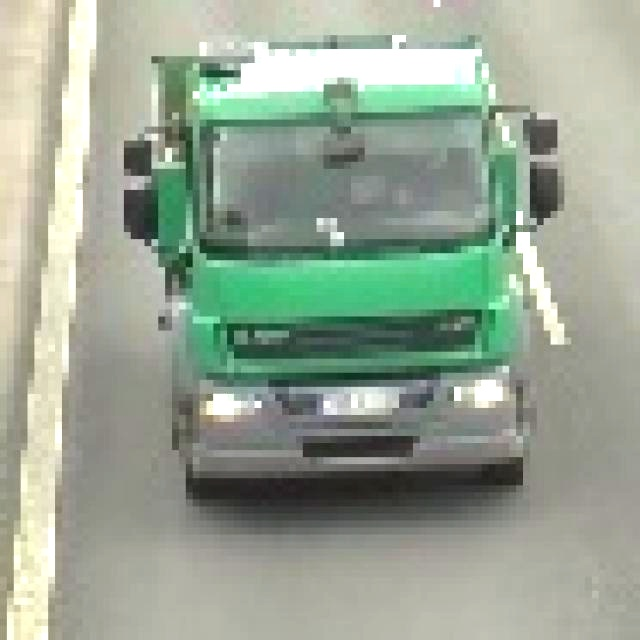truck: (88, 23, 616, 570)
